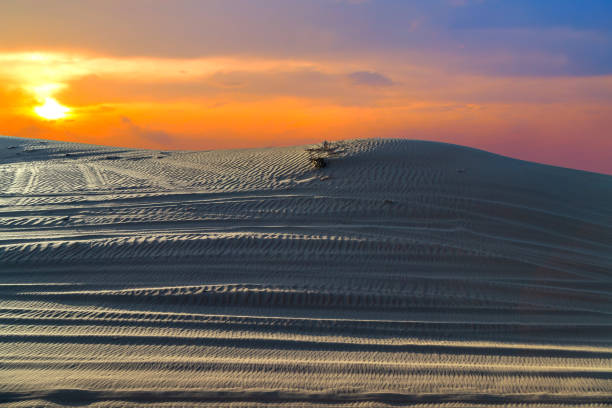vehicle_track: (7, 252, 601, 326), (6, 217, 594, 270), (69, 141, 111, 189), (7, 147, 39, 208)
